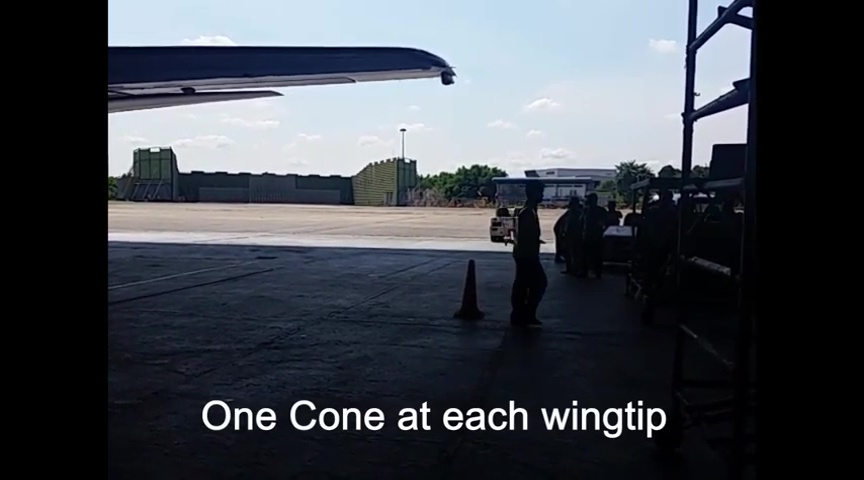safety_cone: (452, 259, 486, 321)
